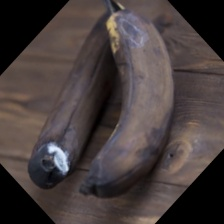banana: (31, 36, 173, 200)
